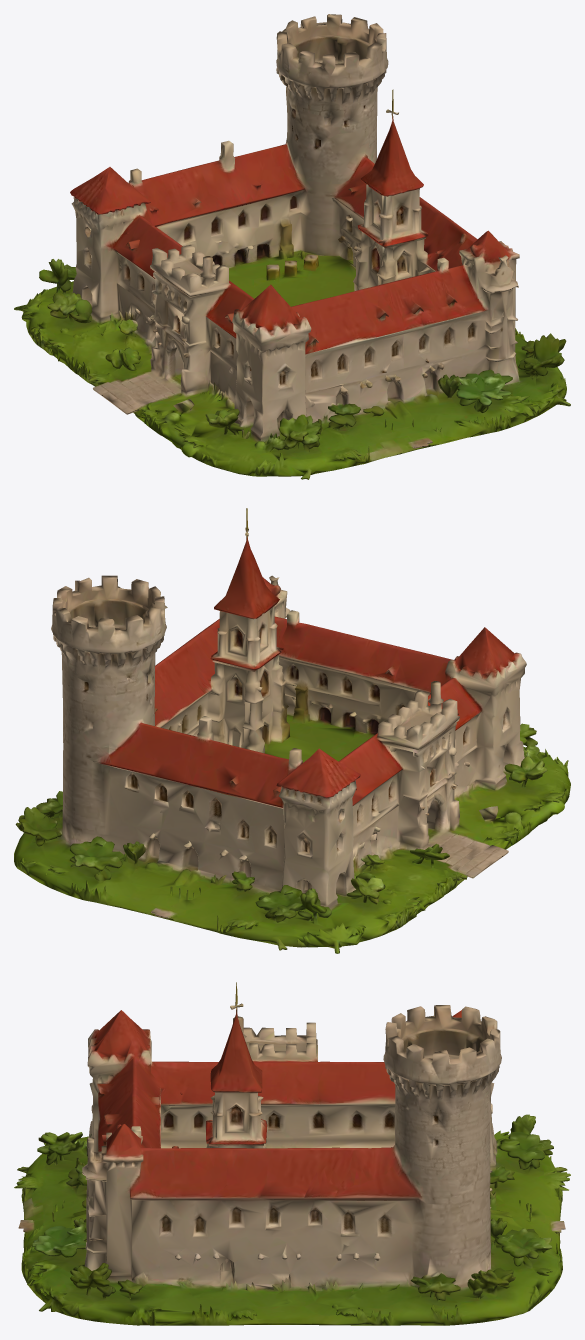
The model's file is lublin.glb.
3 renders of one model, top to bottom at view 1: azimuth 30°, elevation 25°; view 2: azimuth 150°, elevation 25°; view 3: azimuth 270°, elevation 25°, orthographic. The views are drawn at different scales.
Parts seen in each view (by area): view 1: tripo_node_62e0f30d-92e8-4753-bef7-15d0cce45dc0; view 2: tripo_node_62e0f30d-92e8-4753-bef7-15d0cce45dc0; view 3: tripo_node_62e0f30d-92e8-4753-bef7-15d0cce45dc0.
Boxes of the visible parts, left/top/right/bottom form: tripo_node_62e0f30d-92e8-4753-bef7-15d0cce45dc0: left=14, top=14, right=570, bottom=479; tripo_node_62e0f30d-92e8-4753-bef7-15d0cce45dc0: left=14, top=508, right=570, bottom=953; tripo_node_62e0f30d-92e8-4753-bef7-15d0cce45dc0: left=14, top=982, right=570, bottom=1325.
Size of the model in its own units: 0.8151 by 0.5577 by 0.9828.
Materials: 1 (1 with a texture image).
